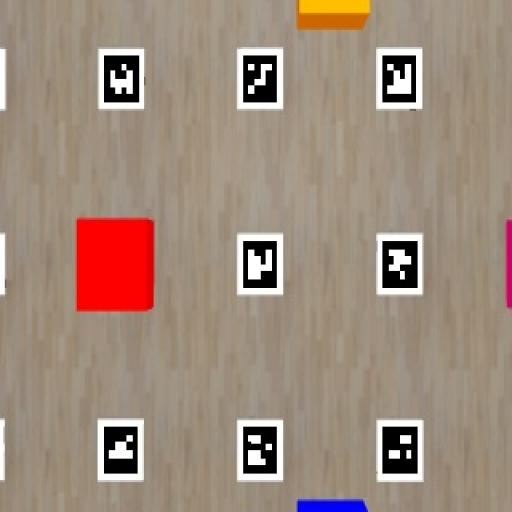car: (296, 500, 367, 511), (506, 220, 511, 309)
fire: (76, 218, 155, 311), (298, 0, 371, 29)
